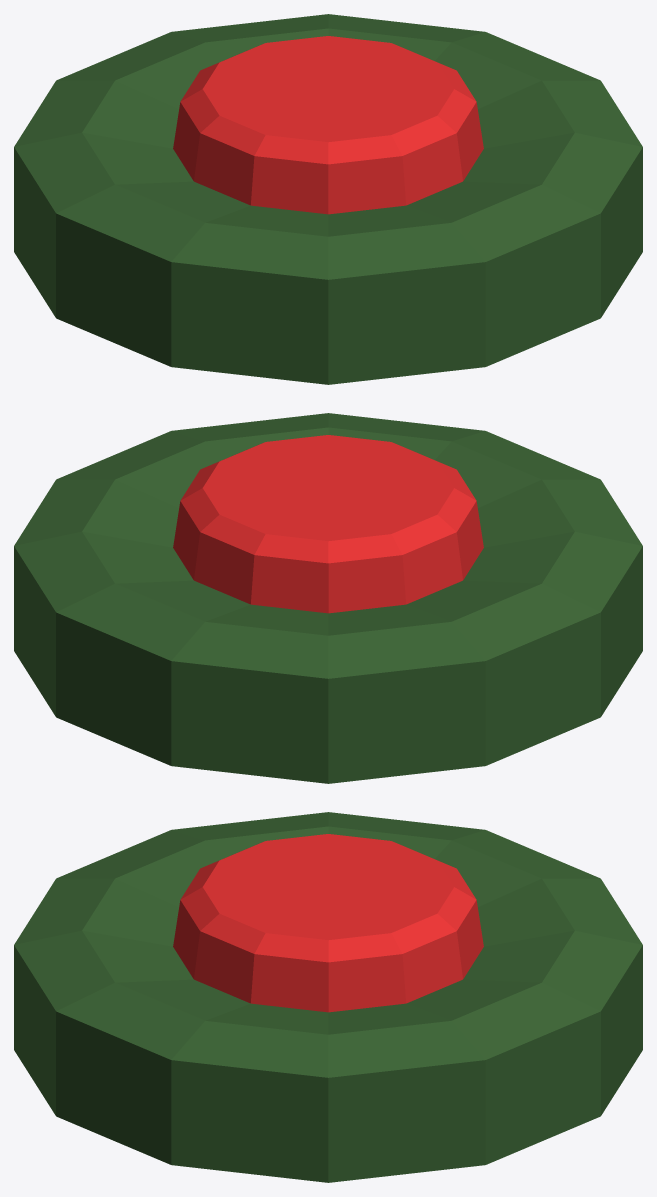
Rendered from mine.fbx.
3 renders of one model, top to bottom at view 1: azimuth 30°, elevation 25°; view 2: azimuth 150°, elevation 25°; view 3: azimuth 270°, elevation 25°, orthographic.
Parts seen in each view (by area): view 1: mine; view 2: mine; view 3: mine.
Part boxes in pixels (<box>): mine: <box>14,14,642,384</box>; mine: <box>14,413,642,783</box>; mine: <box>14,812,642,1182</box>.
Bounding box in the file's own units: 29.33 × 8.38 × 29.33.
